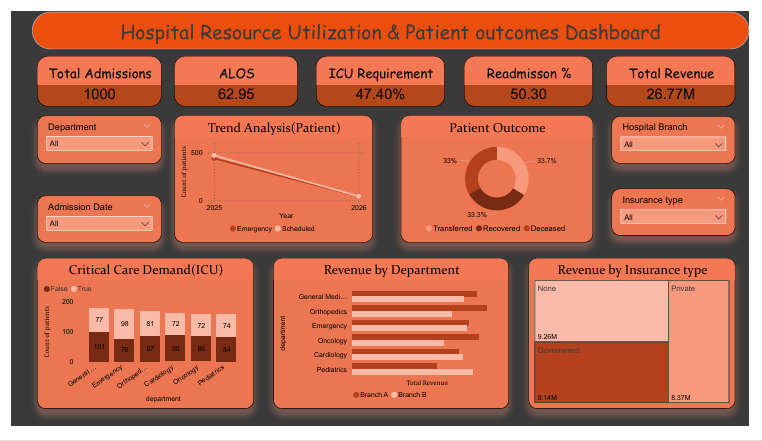

This screenshot's page, from the dashboard's own definition file:
{"tool":"powerbi","page":{"name":"Page 1","canvas":[1280,720],"ordinal":0},"visuals":[{"type":"card","title":"Total Admissions","fields":{"Values":["CountNonNull(Master_dashboard_view (2).admission_id)"]},"box":[44.2,76.7,215.3,88.5],"z":0},{"type":"shape","box":[35.4,0,1244.6,64.9],"z":1000},{"type":"lineChart","title":"Trend Analysis(Patient)","fields":{"Category":["Master_dashboard_view (2).admission_date.Variation.Date Hierarchy.Year","Master_dashboard_view (2).admission_date.Variation.Date Hierarchy.Quarter","Master_dashboard_view (2).admission_date.Variation.Date Hierarchy.Month","Master_dashboard_view (2).admission_date.Variation.Date Hierarchy.Day"],"Y":["CountNonNull(Master_dashboard_view (2).admission_id)"],"Series":["Master_dashboard_view (2).case_type"]},"box":[281.7,179.9,345.1,221.2],"z":2000},{"type":"card","title":"ALOS","fields":{"Values":["Avg(Master_dashboard_view (2).length_of_stay)"]},"box":[281.7,76.7,215.3,88.5],"z":3000},{"type":"card","title":"ICU Requirement","fields":{"Values":["Master_dashboard_view (2).ICU Rate %"]},"box":[527.9,76.7,224.1,88.5],"z":4000},{"type":"donutChart","title":"Patient Outcome","fields":{"Category":["Master_dashboard_view (2).outcome"],"Y":["CountNonNull(Master_dashboard_view (2).admission_id)"]},"box":[675.4,179.9,333.3,221.2],"z":5000},{"type":"columnChart","title":"Critical Care Demand(ICU)","fields":{"Category":["Master_dashboard_view (2).department"],"Y":["CountNonNull(Master_dashboard_view (2).admission_id)"],"Series":["Master_dashboard_view (2).icu_required"]},"box":[44.2,427.6,376,262.5],"z":6000},{"type":"card","title":"Readmisson %","fields":{"Values":["Master_dashboard_view (2).Readmission %"]},"box":[784.5,76.7,224.1,88.5],"z":7000},{"type":"card","title":"Total Revenue","fields":{"Values":["Sum(Master_dashboard_view (2).total_cost)"]},"box":[1032.3,76.7,224.1,88.5],"z":8000},{"type":"slicer","title":"Trend Analysis","fields":{"Values":["Master_dashboard_view (2).department"]},"box":[44.2,179.9,215.3,84.1],"z":9000},{"type":"slicer","title":"Trend Analysis","fields":{"Values":["Master_dashboard_view (2).admission_date.Variation.Date Hierarchy.Year","Master_dashboard_view (2).admission_date.Variation.Date Hierarchy.Month"]},"box":[44.2,318.5,215.3,82.6],"z":10000},{"type":"slicer","title":"Trend Analysis","fields":{"Values":["Master_dashboard_view (2).hospital_branch"]},"box":[1041.1,181.4,215.3,82.6],"z":11000},{"type":"slicer","title":"Trend Analysis","fields":{"Values":["Master_dashboard_view (2).insurance_type"]},"box":[1041.1,306.7,215.3,82.6],"z":12000},{"type":"treemap","title":"Revenue by Insurance type","fields":{"Group":["Master_dashboard_view (2).insurance_type"],"Values":["Sum(Master_dashboard_view (2).total_cost)"]},"box":[896.6,427.6,359.8,262.5],"z":13000},{"type":"clusteredBarChart","title":"Revenue by Department","fields":{"Y":["Sum(Master_dashboard_view (2).total_cost)"],"Category":["Master_dashboard_view (2).department"],"Series":["Master_dashboard_view (2).hospital_branch"]},"box":[454.2,427.6,408.5,262.5],"z":14000}]}

Visuals, with their boxes in screenshot pixels (x1, y1, x2, y2), scaled from the page's 1280x720 canvas onto the 762x441 screenshot:
"Total Admissions" card: {"x1": 26, "y1": 47, "x2": 154, "y2": 101}
shape: {"x1": 21, "y1": 0, "x2": 761, "y2": 40}
"Trend Analysis(Patient)" lineChart: {"x1": 168, "y1": 110, "x2": 373, "y2": 246}
"ALOS" card: {"x1": 168, "y1": 47, "x2": 296, "y2": 101}
"ICU Requirement" card: {"x1": 314, "y1": 47, "x2": 448, "y2": 101}
"Patient Outcome" donutChart: {"x1": 402, "y1": 110, "x2": 600, "y2": 246}
"Critical Care Demand(ICU)" columnChart: {"x1": 26, "y1": 262, "x2": 250, "y2": 423}
"Readmisson %" card: {"x1": 467, "y1": 47, "x2": 600, "y2": 101}
"Total Revenue" card: {"x1": 615, "y1": 47, "x2": 748, "y2": 101}
"Trend Analysis" slicer: {"x1": 26, "y1": 110, "x2": 154, "y2": 162}
"Trend Analysis" slicer: {"x1": 26, "y1": 195, "x2": 154, "y2": 246}
"Trend Analysis" slicer: {"x1": 620, "y1": 111, "x2": 748, "y2": 162}
"Trend Analysis" slicer: {"x1": 620, "y1": 188, "x2": 748, "y2": 238}
"Revenue by Insurance type" treemap: {"x1": 534, "y1": 262, "x2": 748, "y2": 423}
"Revenue by Department" clusteredBarChart: {"x1": 270, "y1": 262, "x2": 514, "y2": 423}
